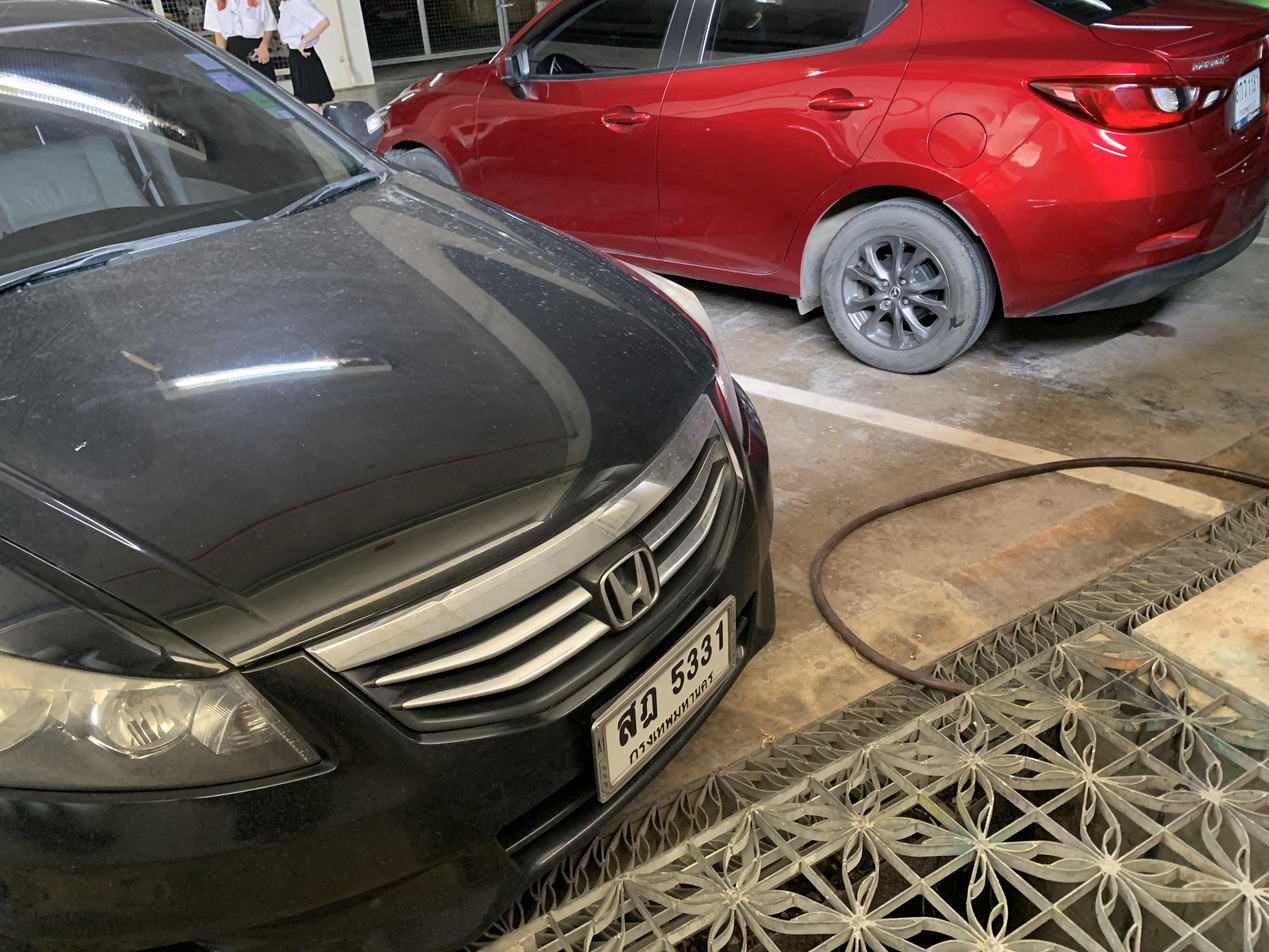license-plate: (588, 592, 742, 808)
